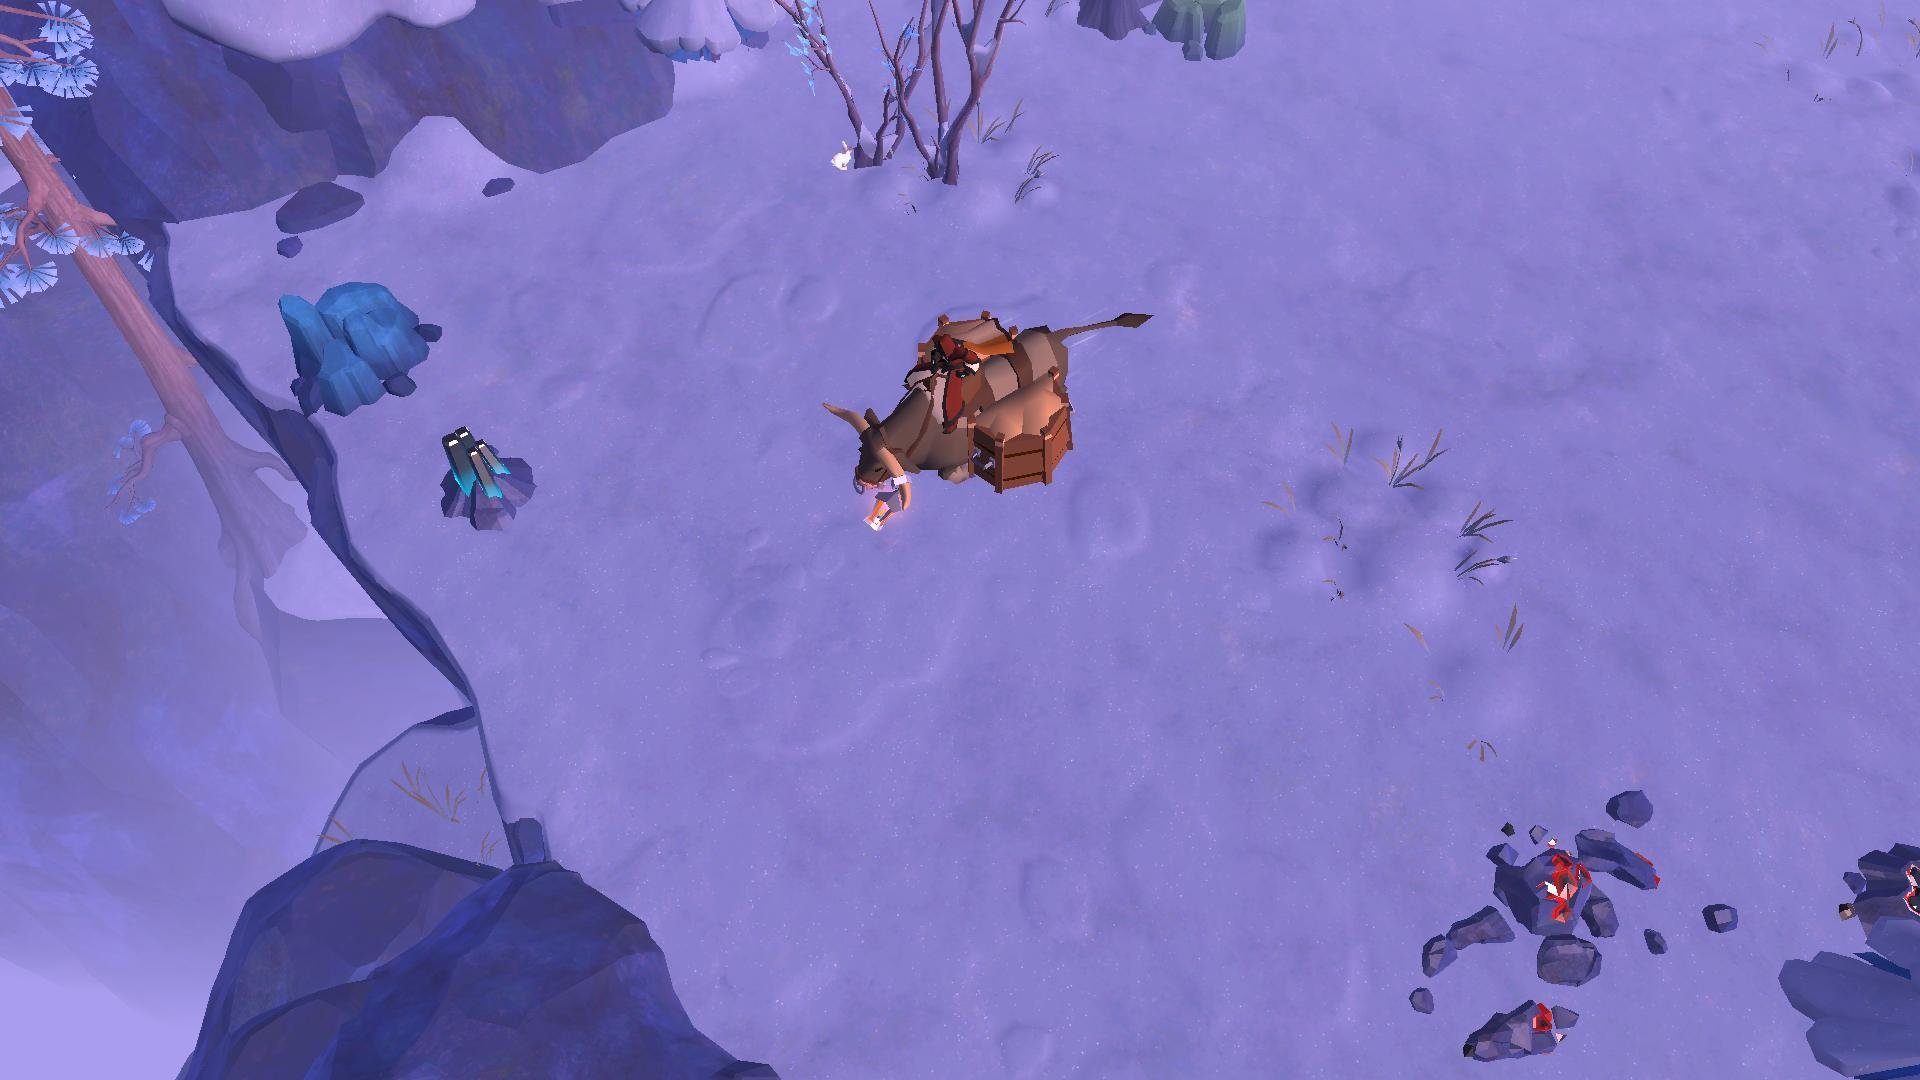ore_t4: (434, 414, 513, 505)
rock_t3: (1137, 0, 1262, 69)
rock_t4: (272, 272, 434, 413)
